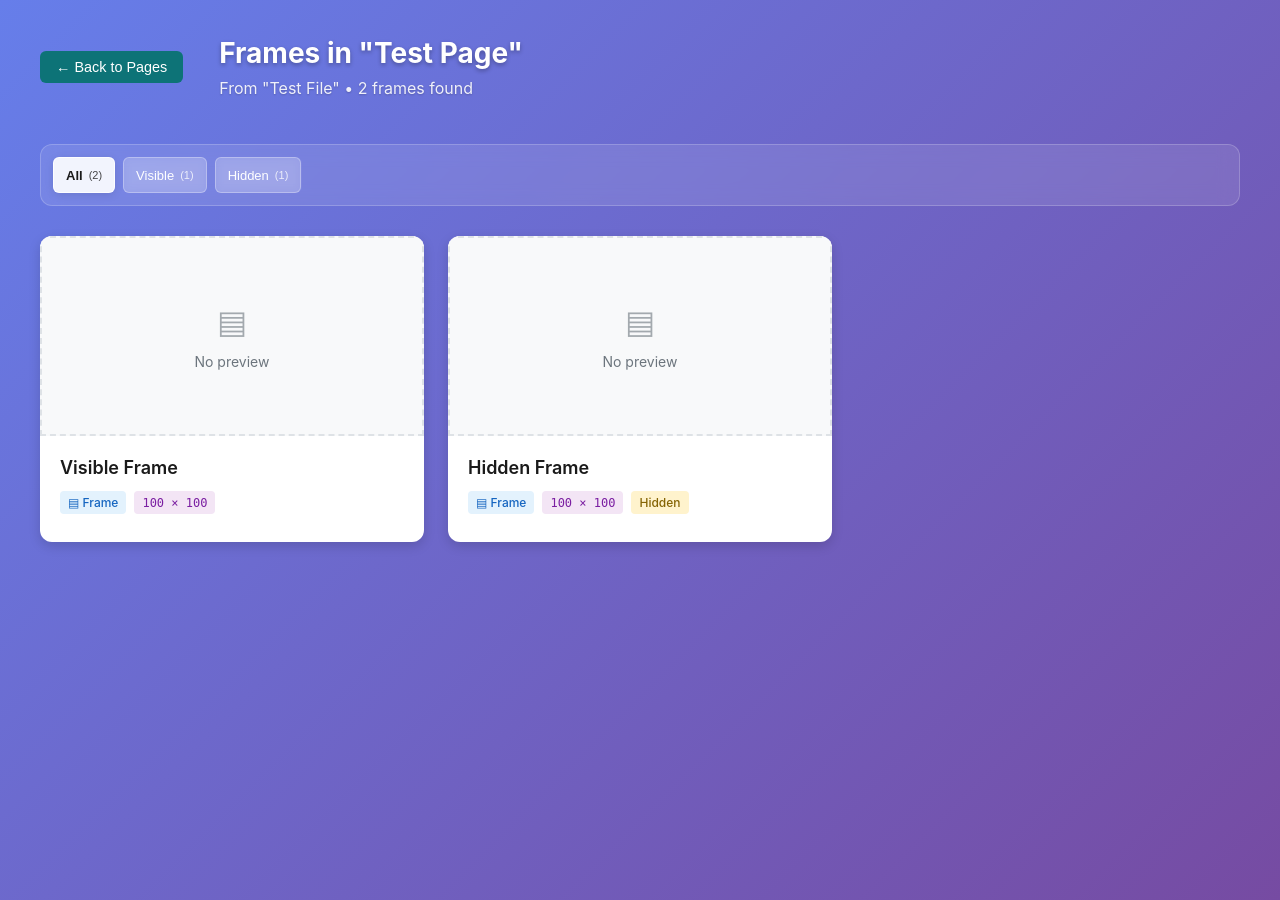
Scenario: filters frames when filter tab is clicked
Expected: the heading "Visible Frame" is shown, [60,457,178,478]
Expected: the heading "Hidden Frame" is shown, [468,457,589,478]
// Click the "Hidden" filter tab (be more specific)
What coordinates should you click on to do the following:
click the button "Hidden (1)"
I would click on:
 (258, 175)
Its box is [215,157,301,193].
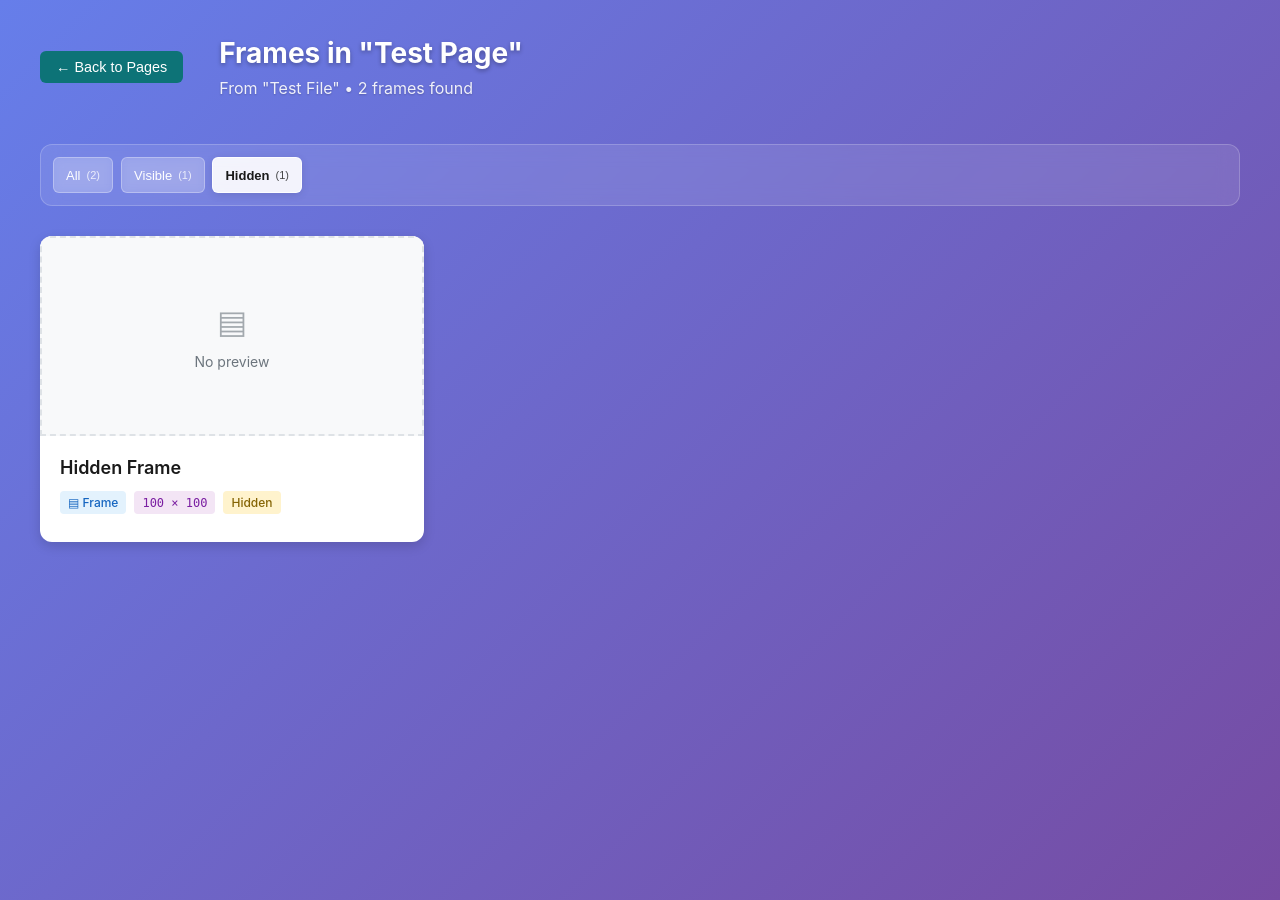
Expected: the heading "Hidden Frame" is shown, [60,457,181,478]
Expected: the heading "Visible Frame" is gone
